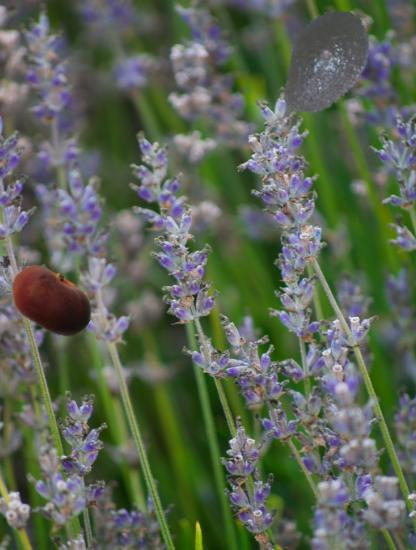Avocado: (269, 7, 381, 119)
Nectarine: (8, 257, 95, 344)
